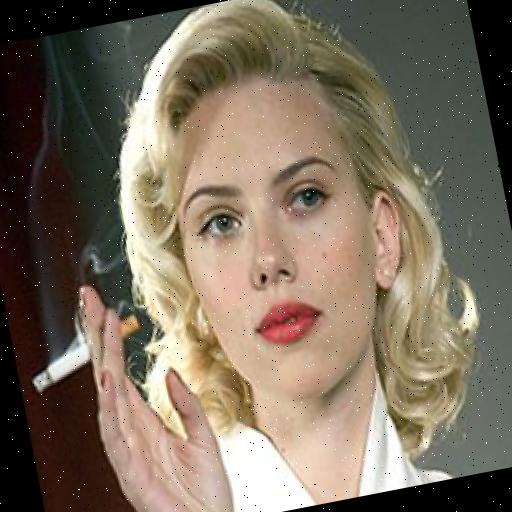terdeteksi pegang rokok: (8, 242, 198, 473)
